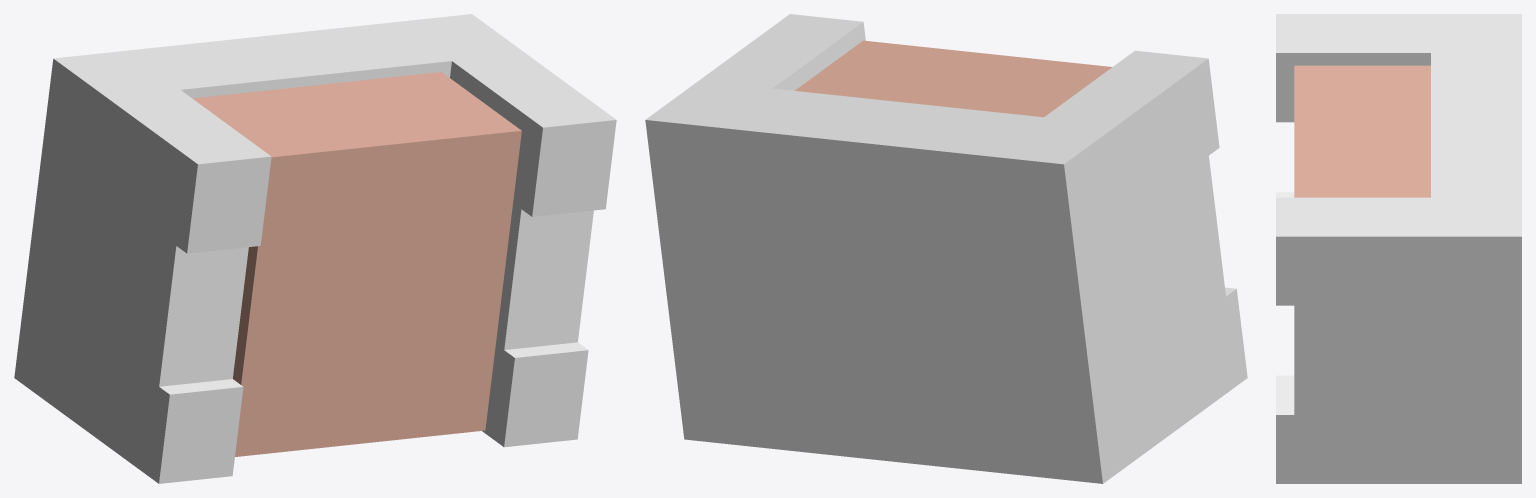
The model's file is ________744235510_T5_AK_DRVs_12S_V3_0_XT30PW_2_2______________1.gltf.
The picture shows the model from 3 angles, left to right: view 1: azimuth 30°, elevation 25°; view 2: azimuth 150°, elevation 25°; view 3: azimuth 270°, elevation 25°; orthographic projection. The views are drawn at different scales.
Visible parts, largest first — view 1: mesh36234, mesh36253, mesh36248, mesh36235, mesh36256, mesh36241, mesh36240, mesh36250, mesh36244, mesh36255, mesh36245, mesh36239 (+3 smaller); view 2: mesh36247, mesh36253, mesh36248, mesh36235, mesh36240; view 3: mesh36246, mesh36248, mesh36235, mesh36252, mesh36242.
Part boxes in pixels (x1,y1,x2,y2): mesh36234: [235, 131, 521, 456]; mesh36253: [14, 59, 197, 483]; mesh36248: [53, 14, 616, 164]; mesh36235: [192, 72, 521, 157]; mesh36256: [159, 246, 248, 386]; mesh36241: [504, 209, 593, 349]; mesh36240: [450, 61, 542, 446]; mesh36250: [187, 156, 271, 253]; mesh36244: [504, 350, 588, 447]; mesh36255: [159, 387, 243, 483]; mesh36245: [532, 120, 616, 216]; mesh36239: [181, 61, 451, 98]; mesh36247: [645, 120, 1102, 483]; mesh36253: [1064, 59, 1247, 483]; mesh36248: [645, 14, 1208, 164]; mesh36235: [795, 40, 1112, 117]; mesh36240: [773, 22, 865, 90]; mesh36246: [1276, 236, 1521, 483]; mesh36248: [1276, 14, 1521, 236]; mesh36235: [1294, 65, 1430, 197]; mesh36252: [1276, 53, 1430, 122]; mesh36242: [1276, 375, 1294, 414].
Bounding box in the file's own units: 0.00493 × 0.00379 × 0.0027.
